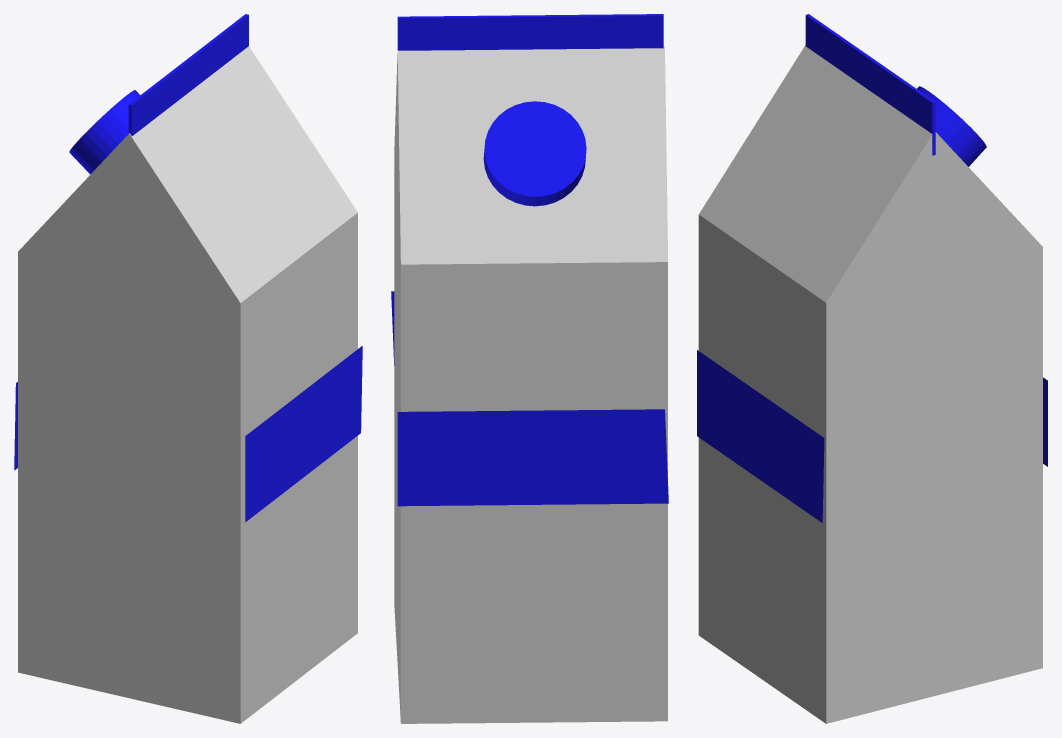
Rendered from milk1.glb.
The picture shows the model from 3 angles, left to right: view 1: azimuth 30°, elevation 25°; view 2: azimuth 150°, elevation 25°; view 3: azimuth 270°, elevation 25°; orthographic projection. The views are drawn at different scales.
Parts seen in each view (by area): view 1: Cube.010; view 2: Cube.010; view 3: Cube.010.
Part boxes in pixels (x1=…): Cube.010: x1=14, y1=14, x2=362, y2=723; Cube.010: x1=391, y1=14, x2=668, y2=723; Cube.010: x1=697, y1=14, x2=1047, y2=723.
Size of the model in its own units: 1.31 by 2.46 by 1.32.
